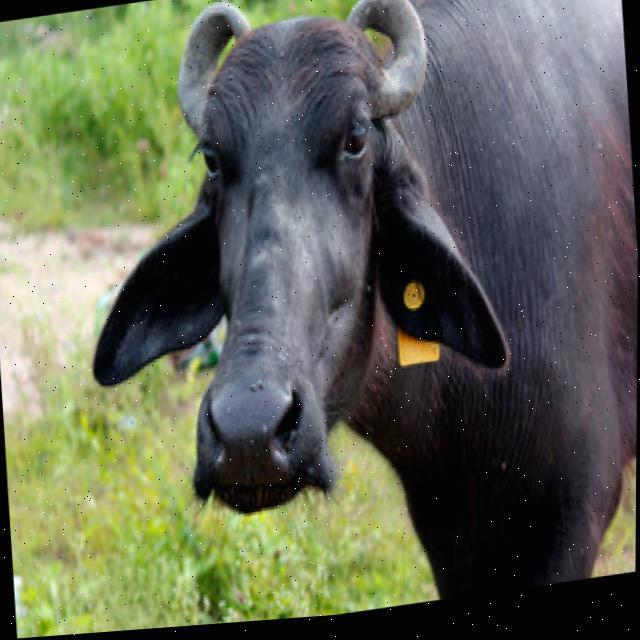Buffalo: (62, 0, 640, 635)
